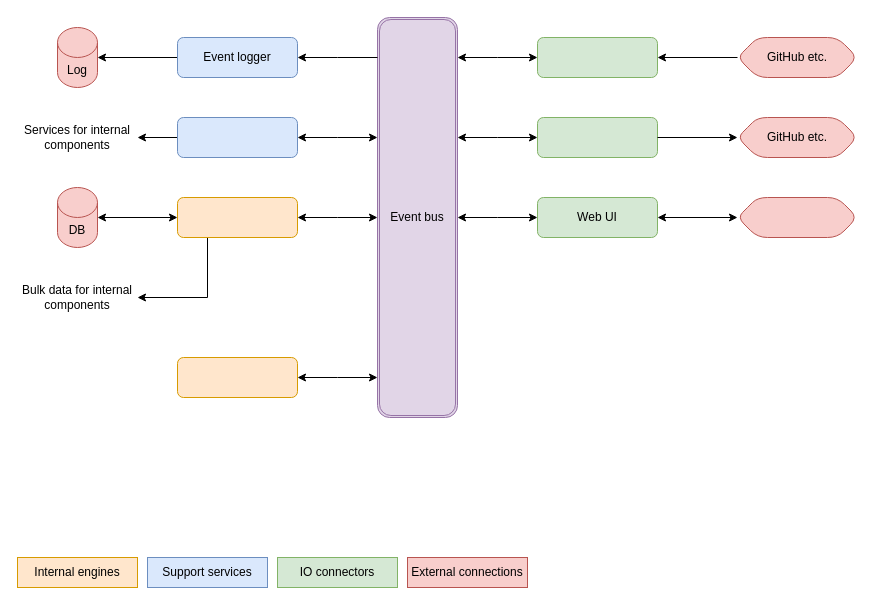
The diagram is 875 pixels wide and 605 high, and some of its shapes have lost their labels. Each missing label, with the centre of its shape:
Analytics: the point at 237,377
Browser: the point at 797,217
Data export modules: the point at 597,137
Data import modules: the point at 597,57
Storage: the point at 237,217
Validator & sanitizer: the point at 237,137
